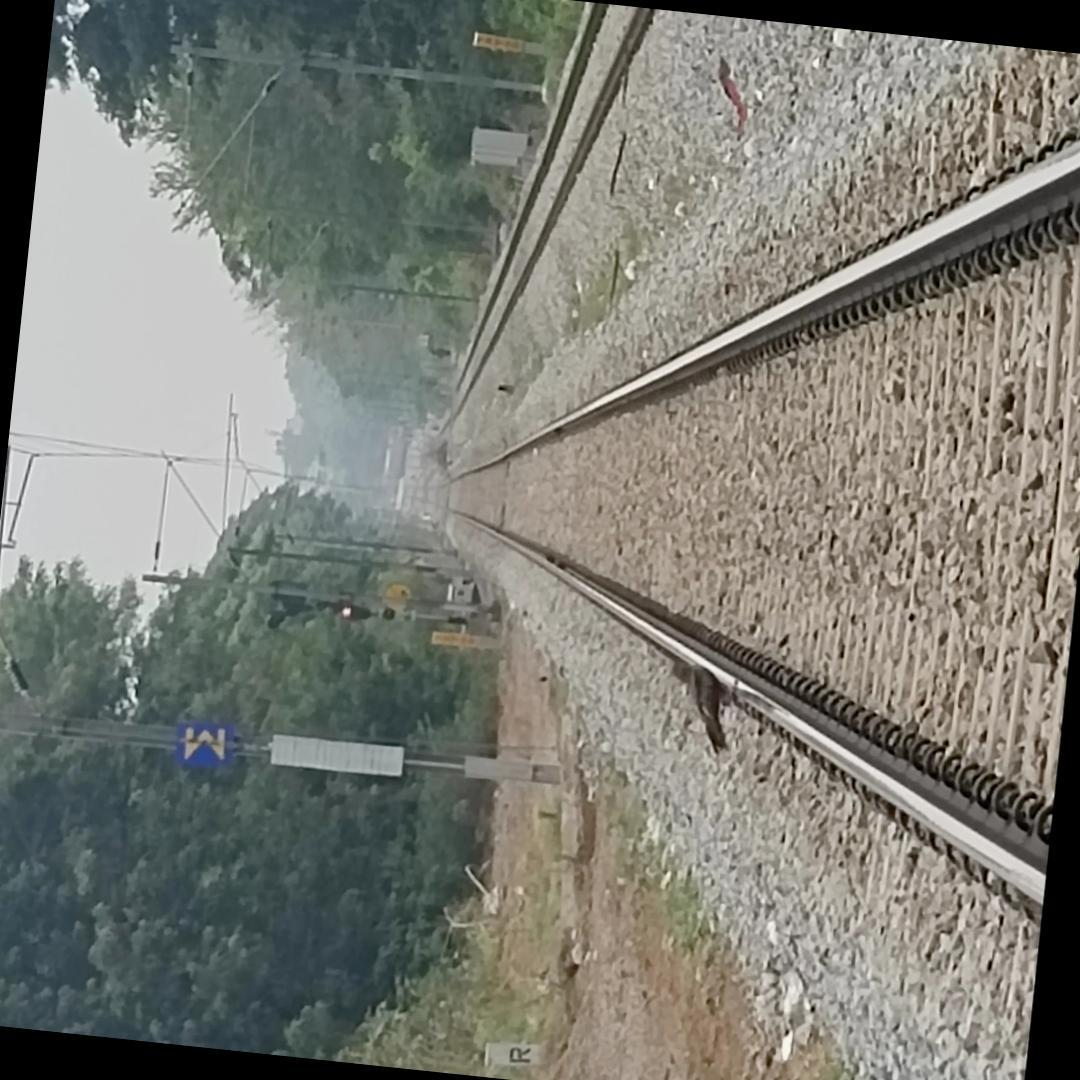track: (413, 45, 1080, 1028)
